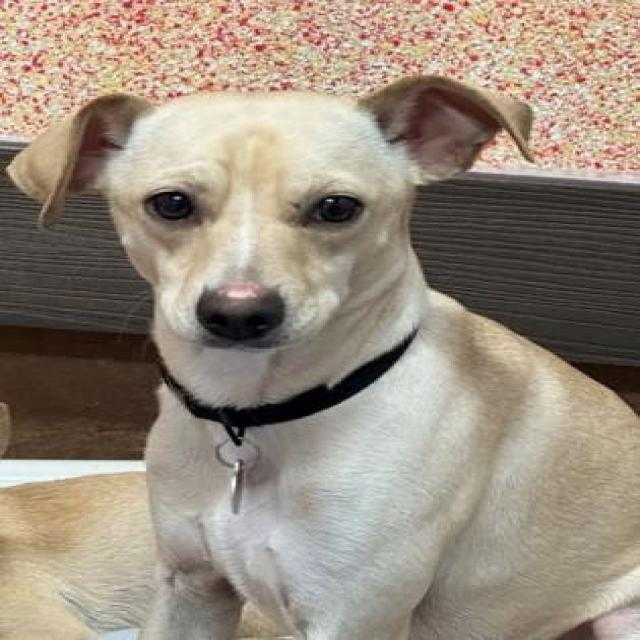chihuahua_dog: (6, 54, 557, 374)
